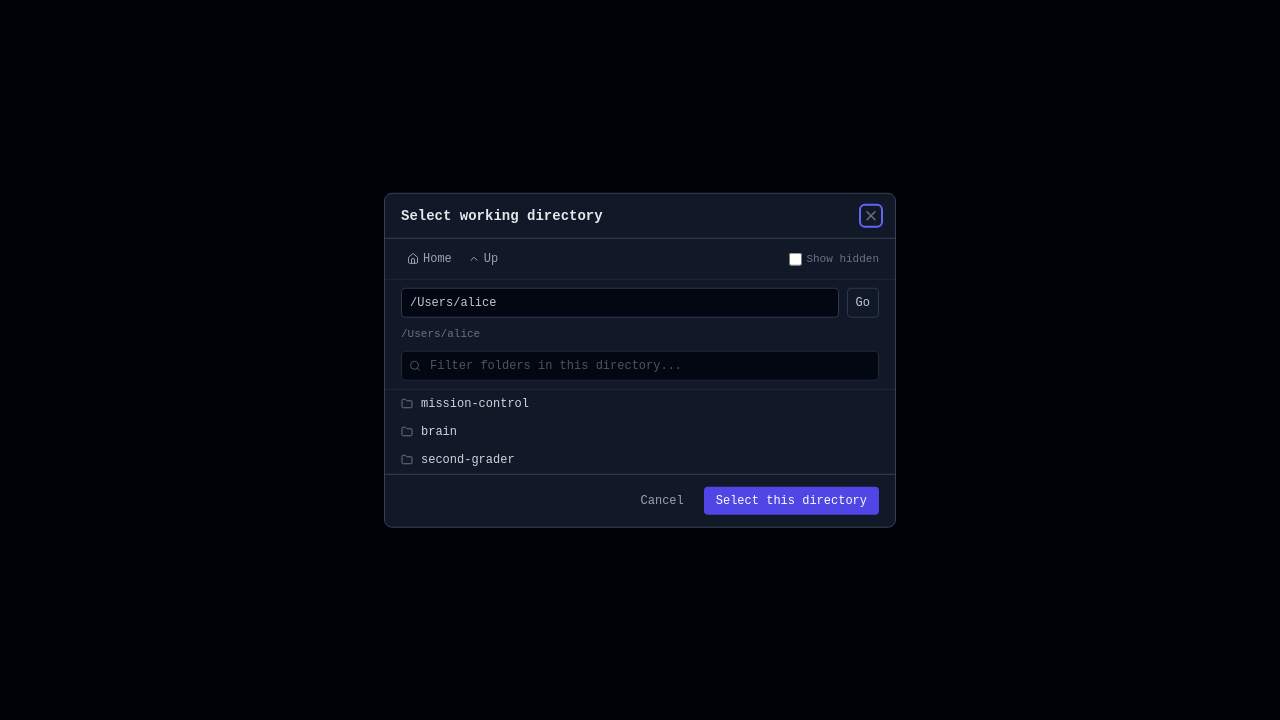
Test case: FolderPicker — search and jump › filters directories in the current folder
The image size is (1280, 720).
Expected: the text "mission-control" is shown, [421, 395, 529, 411]
Type "brain" into the field labelled "Filter folders in this directory..." at (640,365), box [401, 350, 879, 380]
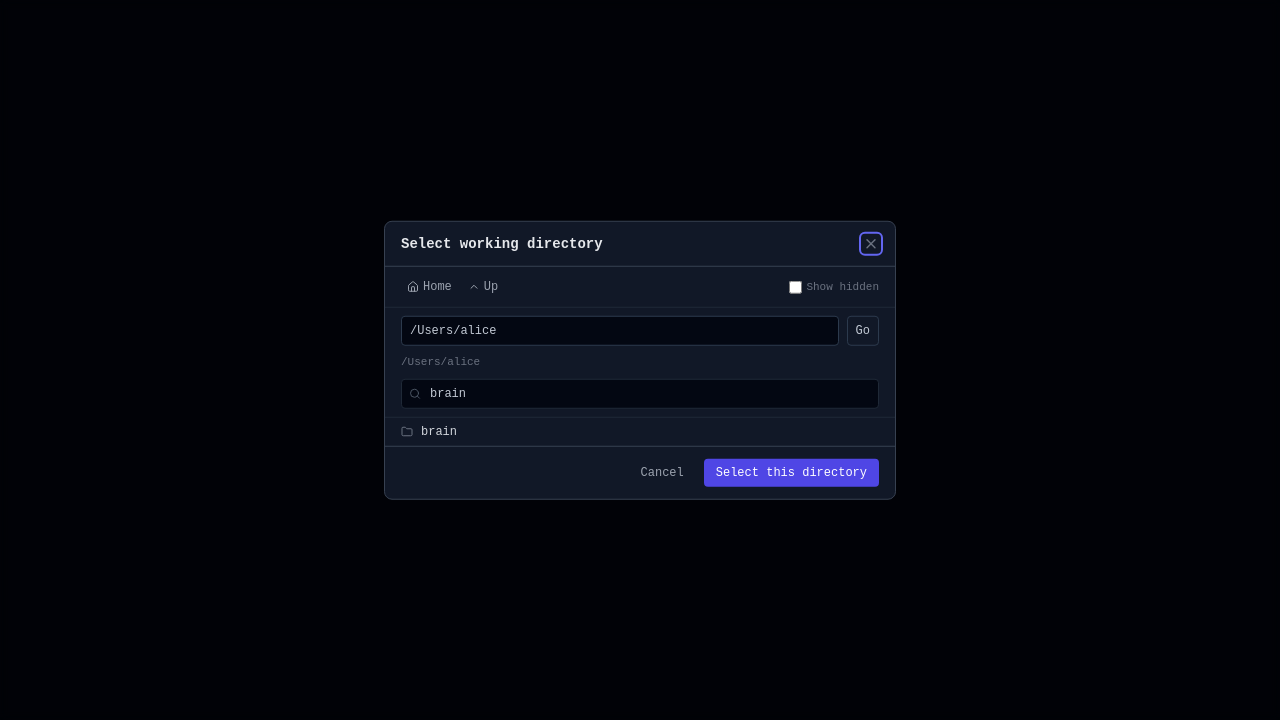
Expected: the text "brain" is shown, [421, 423, 457, 439]
Expected: the button "mission-control" is gone
Expected: the button "second-grader" is gone
